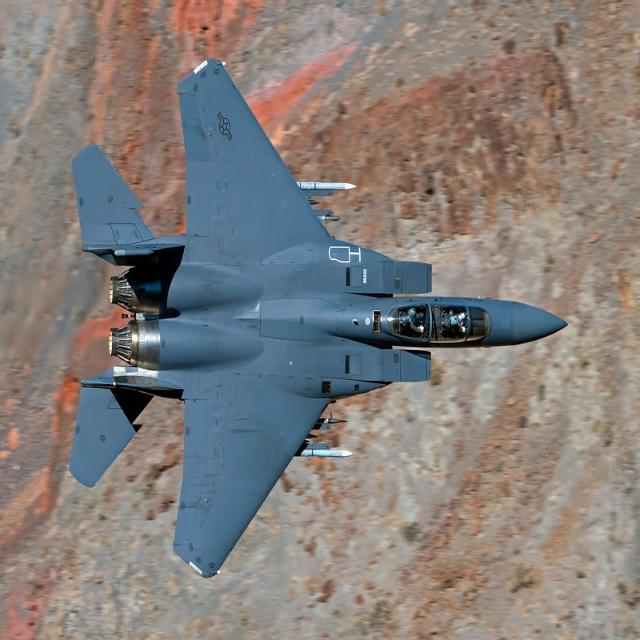F15: (54, 14, 606, 604)
